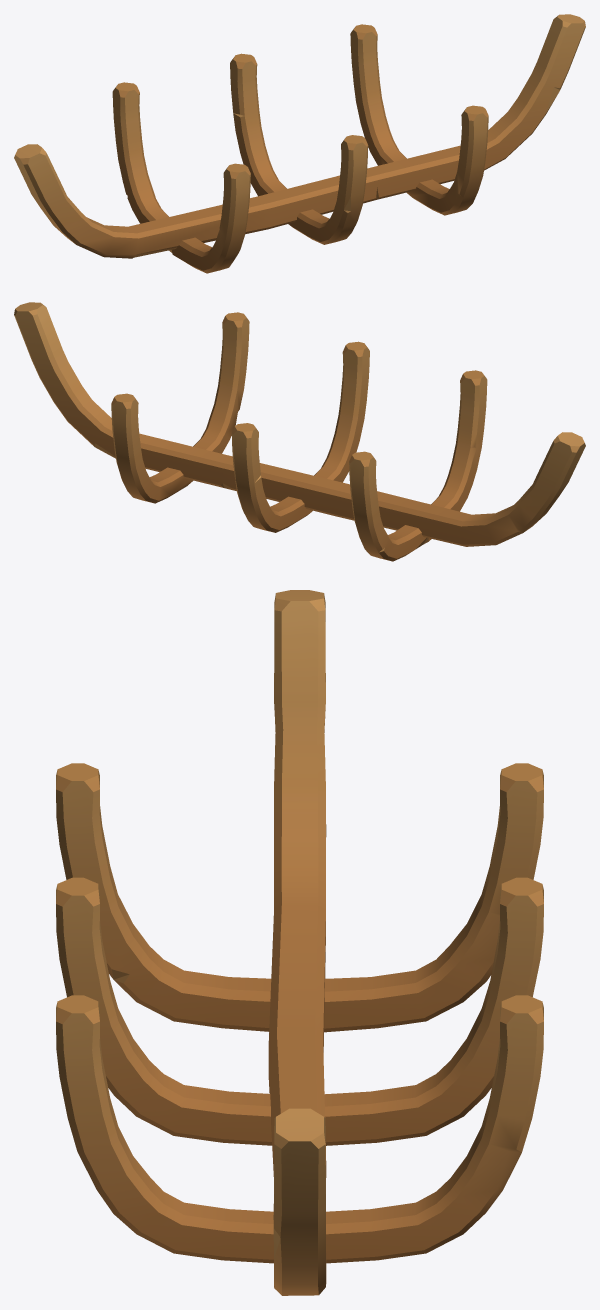
Rendered from BoatFrame_D.glb.
3 views of the same model, one above another, from view 1: azimuth 30°, elevation 25°; view 2: azimuth 150°, elevation 25°; view 3: azimuth 270°, elevation 25° (orthographic). The views are drawn at different scales.
Visible parts, largest first — view 1: BoatFrame_D; view 2: BoatFrame_D; view 3: BoatFrame_D.
Boxes of the visible parts, x1,y1,x2,y2 form: BoatFrame_D: (14, 14, 585, 273); BoatFrame_D: (14, 302, 585, 561); BoatFrame_D: (56, 590, 543, 1295).
Bounding box in the file's own units: 6.03 × 1.47 × 2.26.
Materials: 1 (1 with a texture image).
